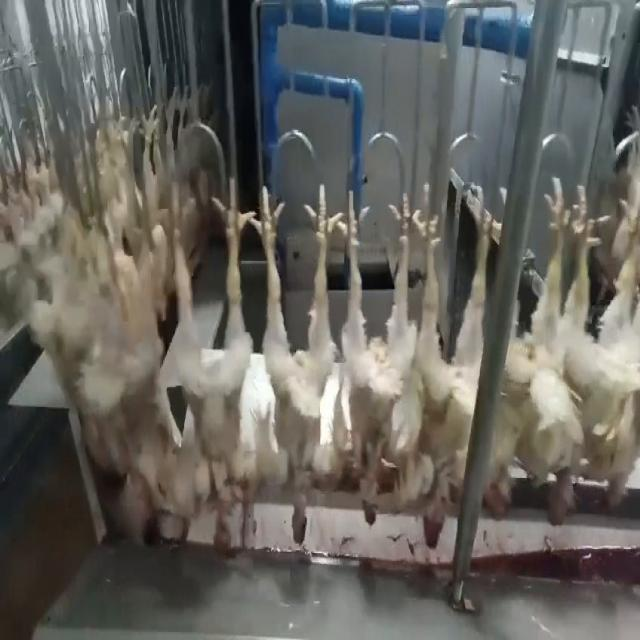chicken: (165, 173, 255, 552), (408, 183, 496, 545), (258, 174, 336, 553), (521, 173, 599, 529), (341, 179, 418, 528), (93, 177, 163, 545), (595, 170, 640, 505)
